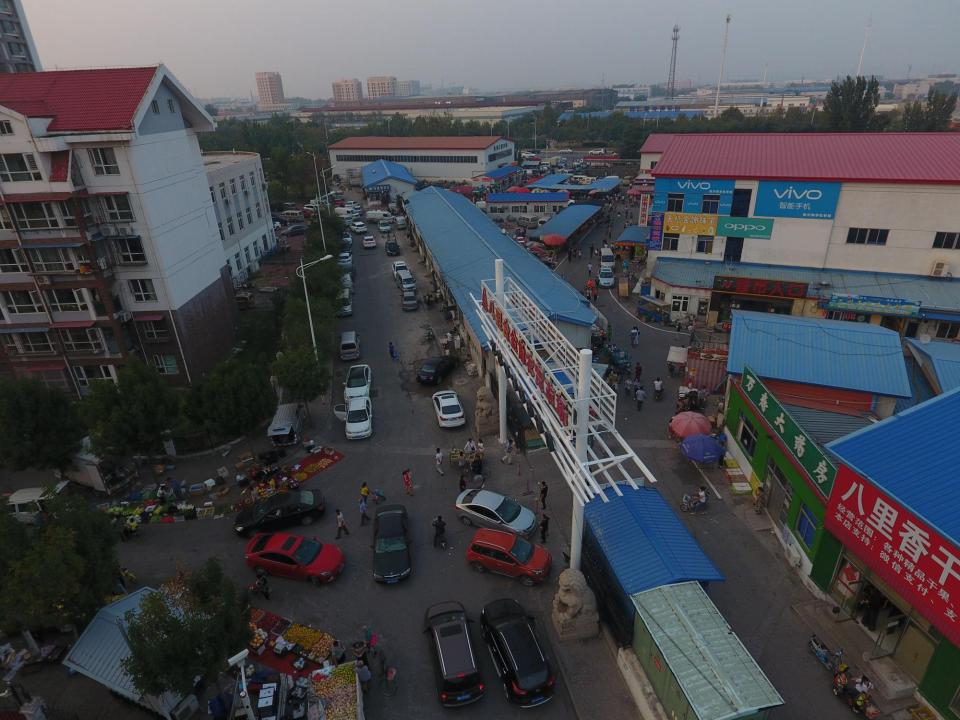car: (481, 598, 557, 708), (425, 600, 485, 708), (246, 531, 346, 586), (465, 528, 551, 588), (455, 487, 536, 540), (233, 489, 325, 535), (372, 506, 413, 584), (269, 404, 303, 446), (432, 389, 464, 427), (344, 398, 373, 439), (417, 355, 458, 384), (343, 363, 372, 401), (332, 286, 353, 316), (340, 332, 360, 361), (396, 267, 414, 288), (333, 205, 360, 219), (280, 225, 310, 237), (334, 248, 352, 267), (336, 267, 353, 287), (401, 291, 417, 312), (279, 210, 303, 224), (366, 212, 392, 222), (337, 230, 353, 246), (392, 260, 406, 278), (384, 240, 398, 256), (349, 221, 366, 234), (310, 199, 331, 208), (362, 233, 374, 248), (337, 215, 353, 226), (344, 200, 360, 210), (299, 207, 313, 217), (380, 219, 390, 232), (353, 204, 363, 216), (333, 198, 344, 208), (335, 190, 344, 197)
van: (3, 486, 77, 528), (220, 290, 256, 312), (394, 216, 409, 231)
